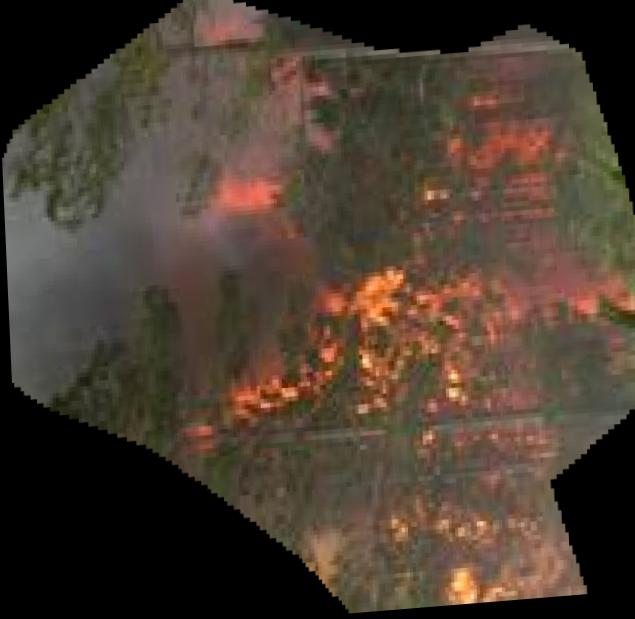fire: (1, 0, 635, 619)
